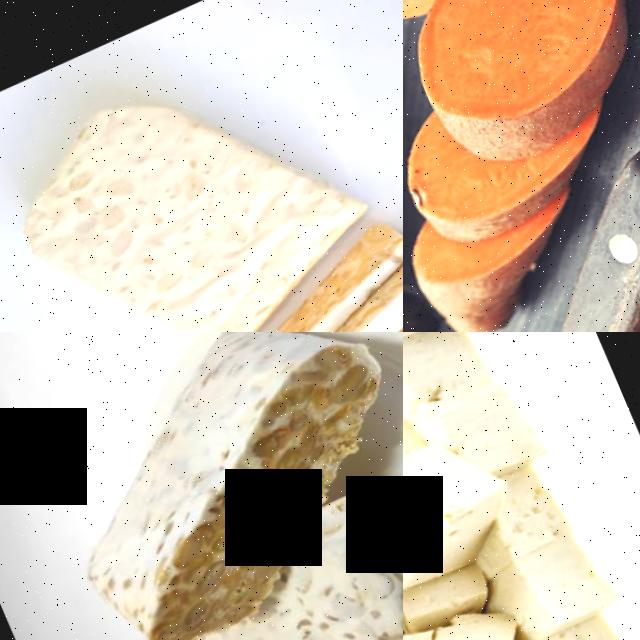sweet potato: (403, 0, 640, 180), (403, 213, 583, 332), (403, 54, 480, 332)
tempeh: (0, 14, 403, 332), (111, 332, 403, 557), (57, 447, 316, 640), (265, 477, 403, 640), (218, 223, 403, 332)
tofu: (403, 428, 524, 594), (474, 504, 619, 640), (403, 332, 494, 434)
